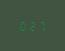seven: (37, 20, 45, 31)
two: (28, 20, 36, 31)
zero: (18, 20, 26, 31)
